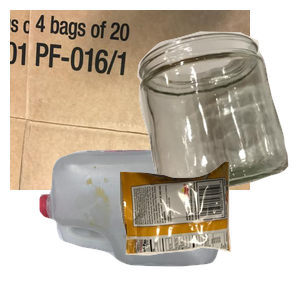cardboard: (10, 10, 250, 190)
glass: (135, 29, 300, 209)
plastic: (37, 147, 254, 300)
trash: (117, 159, 300, 300)
